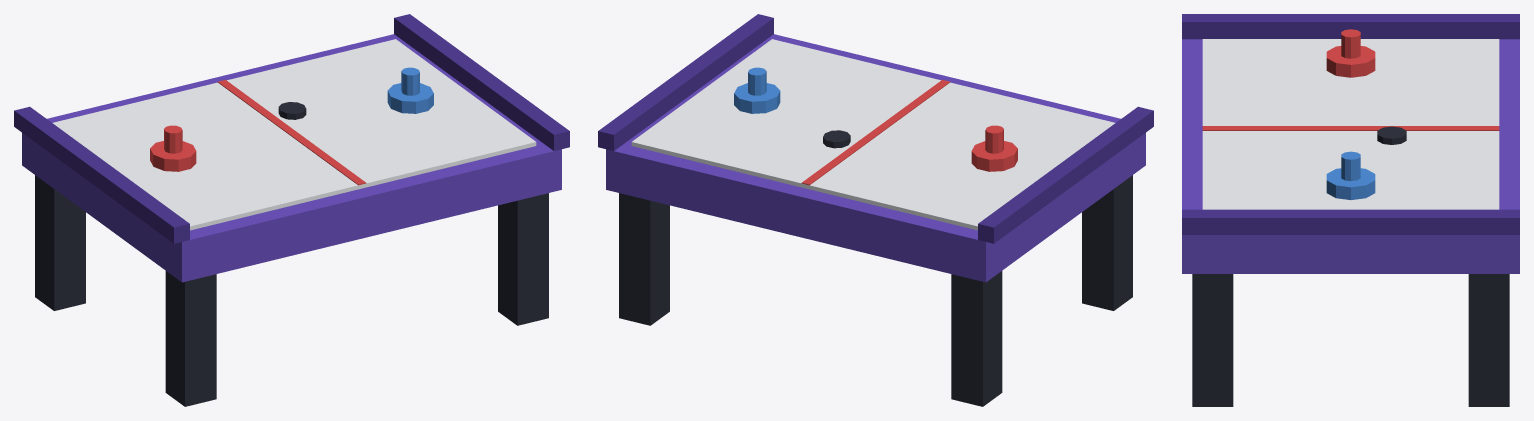
File: air-hockey.glb
The picture shows the model from 3 angles, left to right: view 1: azimuth 30°, elevation 25°; view 2: azimuth 150°, elevation 25°; view 3: azimuth 270°, elevation 25°; orthographic projection. The views are drawn at different scales.
Visible parts, largest first — view 1: air-hockey; view 2: air-hockey; view 3: air-hockey.
Boxes of the visible parts, x1,y1,x2,y2 form: air-hockey: (14, 14, 569, 406); air-hockey: (598, 14, 1153, 406); air-hockey: (1182, 14, 1519, 406).
Bounding box in the file's own units: 1 × 0.5 × 0.7.
Materials: 1 (1 with a texture image).
